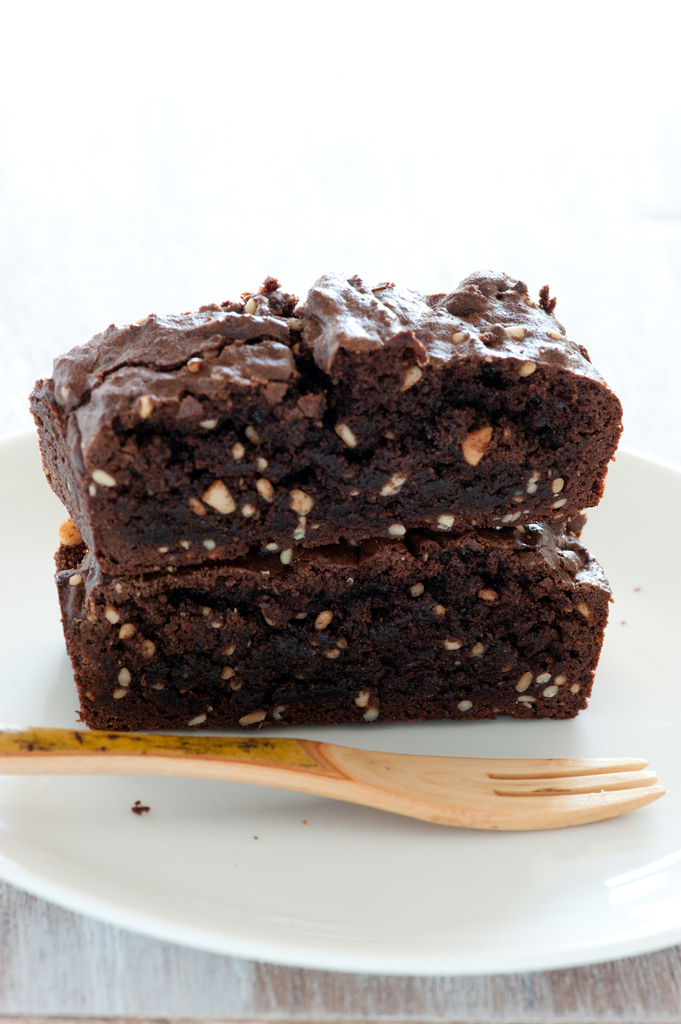cake: (28, 266, 621, 728)
